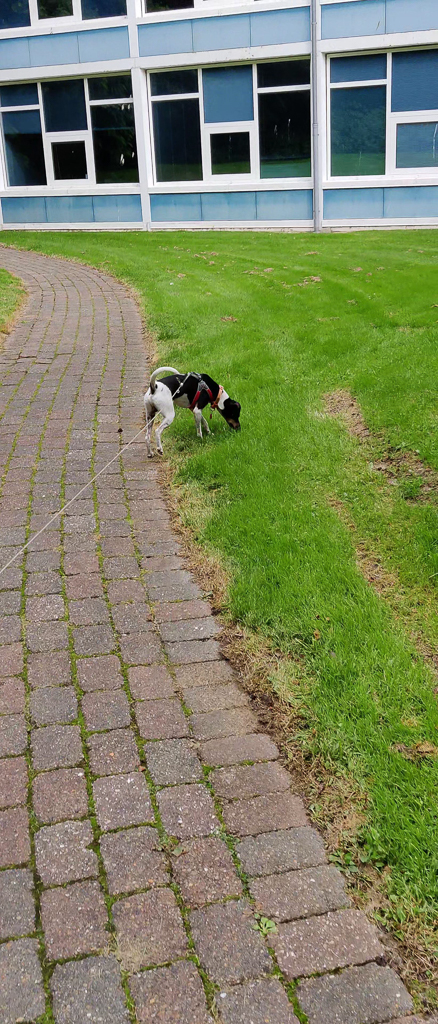Dog: (133, 361, 254, 466)
